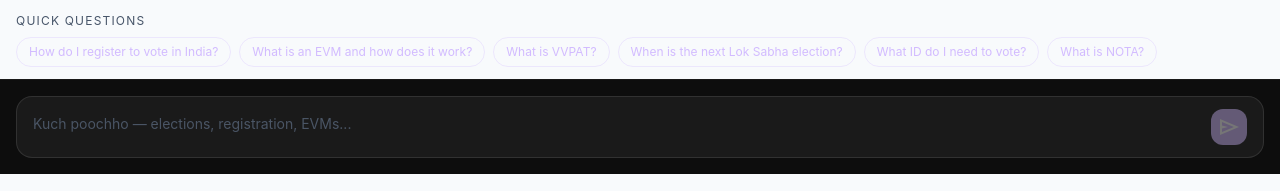
Test case: ChatInterface › send button becomes enabled after typing
In the text box: point(616, 127) [33, 109, 1199, 145], type "How do I vote?"
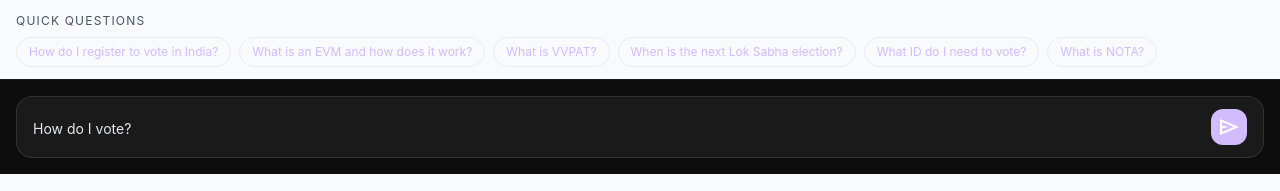
Expected: the button named "Send message" is enabled, [1211, 109, 1247, 145]
